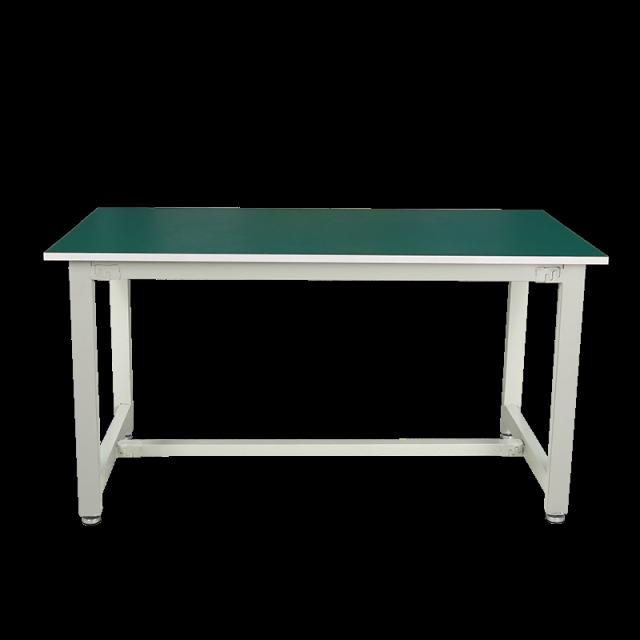table: (32, 184, 618, 547)
